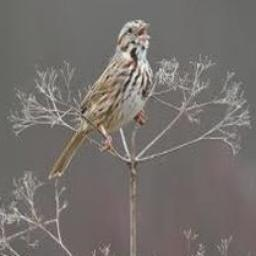Sparrow: (48, 19, 154, 180)
